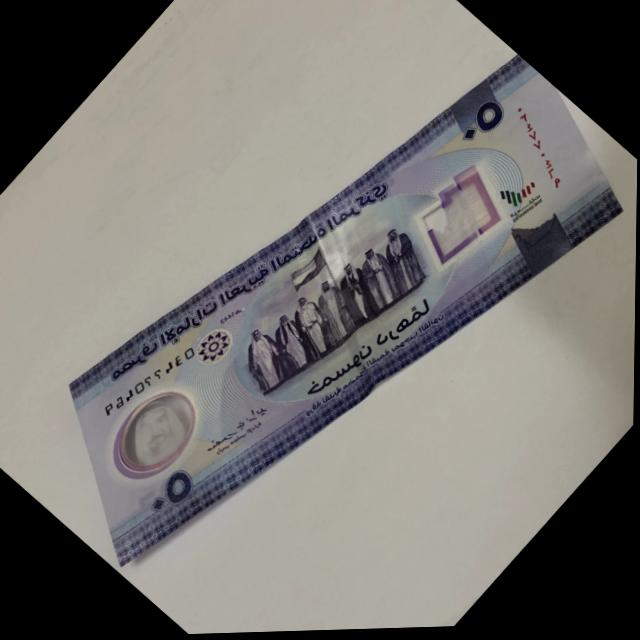50_AED: (68, 53, 626, 572)
